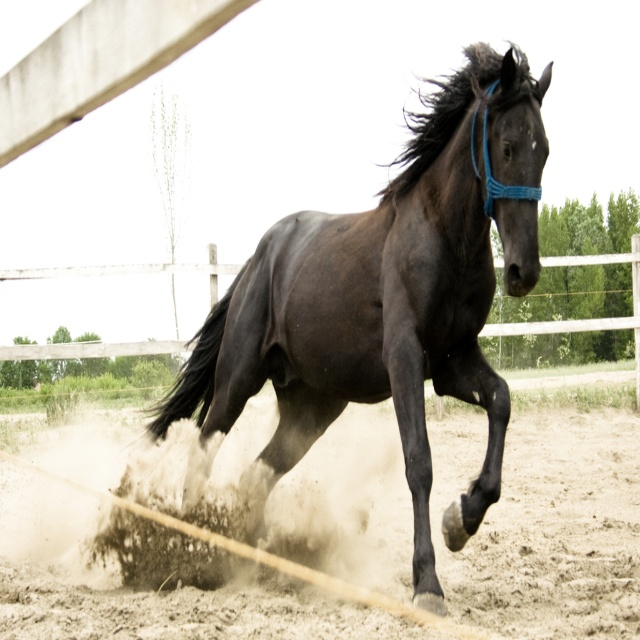Horse: (141, 42, 557, 619)
